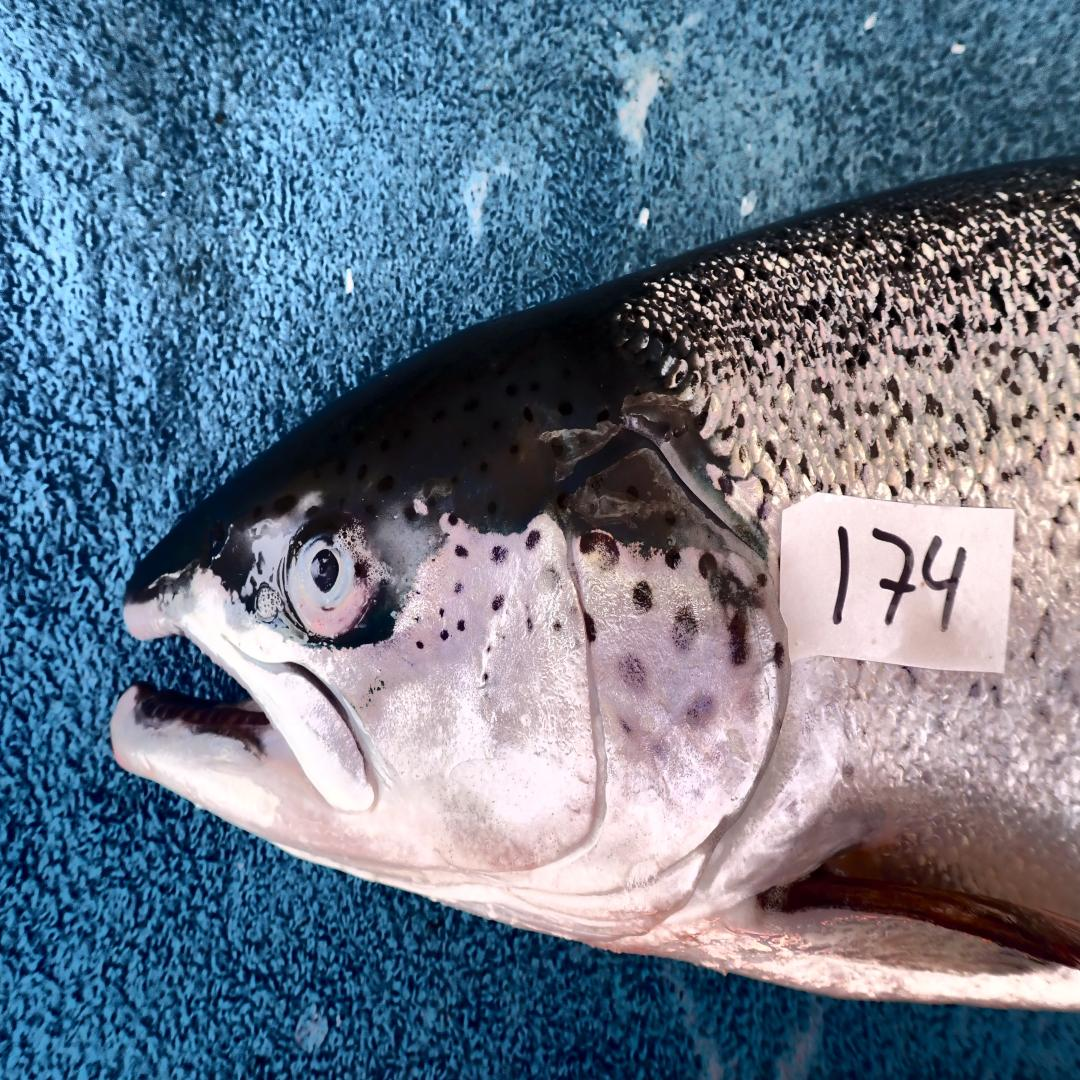spot: (720, 573, 764, 610), (580, 529, 620, 568), (683, 692, 715, 731), (728, 610, 749, 667), (673, 605, 698, 650), (618, 652, 645, 686), (633, 579, 652, 613), (538, 565, 561, 591), (698, 551, 717, 582), (654, 737, 671, 765), (584, 613, 597, 641), (772, 641, 785, 669), (664, 548, 681, 568), (525, 529, 540, 548), (525, 605, 534, 636), (491, 546, 508, 562), (491, 593, 504, 610), (620, 720, 633, 734), (757, 574, 768, 588), (553, 619, 563, 633), (456, 546, 468, 557), (447, 515, 458, 526), (454, 582, 464, 593), (485, 644, 494, 655), (441, 630, 449, 641), (458, 619, 464, 633), (416, 641, 424, 650), (439, 608, 445, 619), (482, 672, 488, 681), (414, 617, 420, 623)
